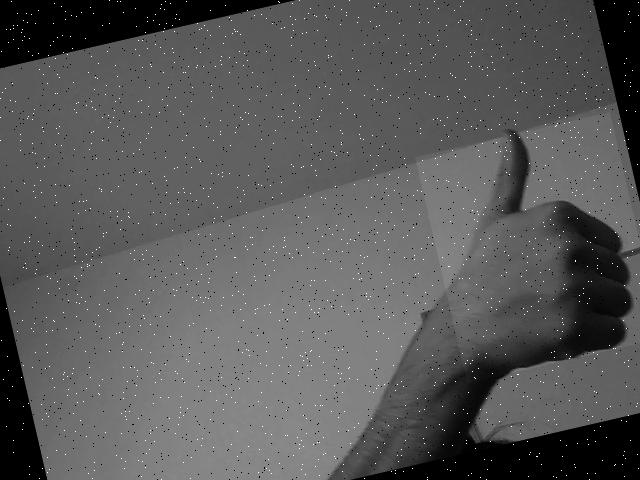good: (414, 111, 640, 382)
